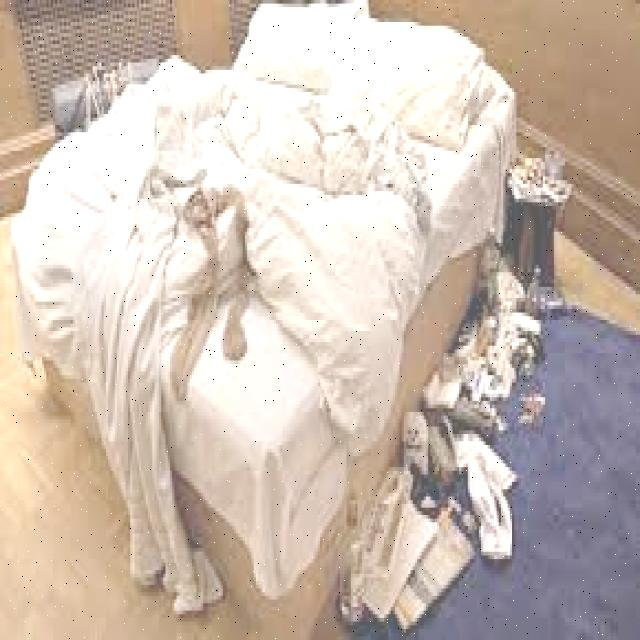bed: (26, 0, 544, 617)
